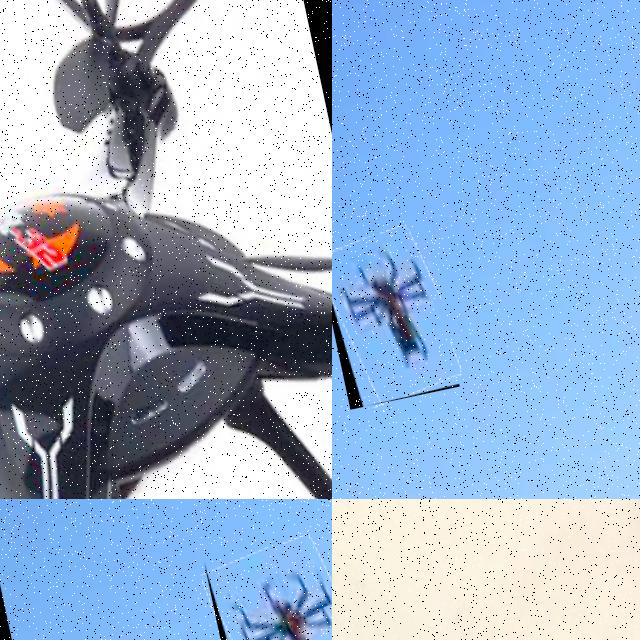drone: (0, 0, 332, 499), (332, 499, 640, 640), (332, 223, 459, 409), (203, 533, 332, 640)
